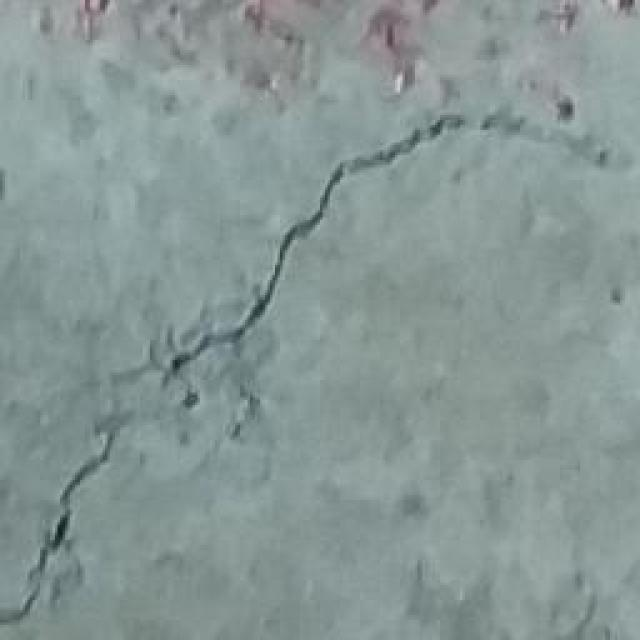Diagonal: (0, 150, 375, 640)
Transverse: (392, 107, 640, 177)
